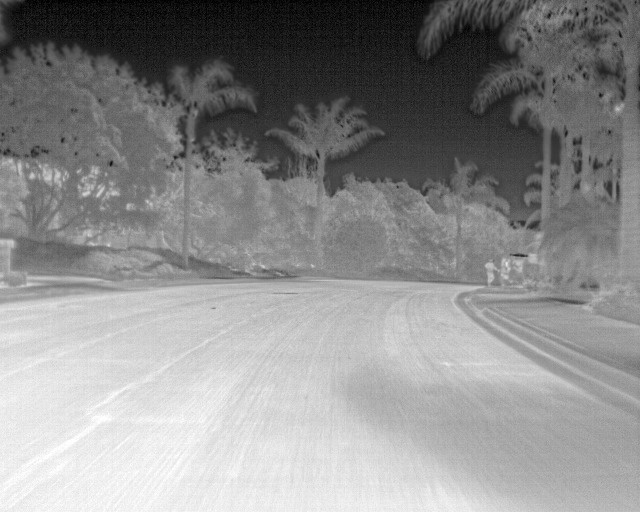people: (497, 251, 517, 290), (479, 255, 497, 286)
